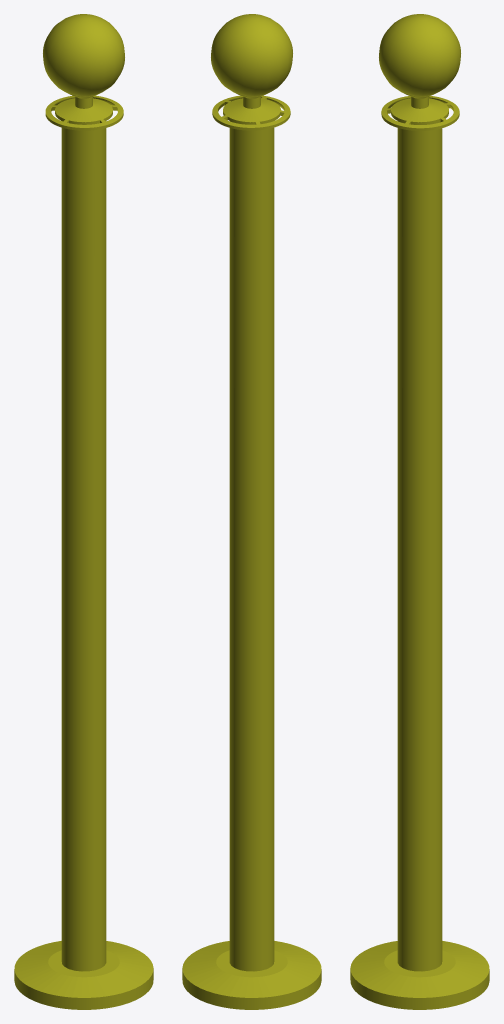
File: RopeGuardPoll.fbx
The picture shows the model from 3 angles, left to right: view 1: azimuth 30°, elevation 25°; view 2: azimuth 150°, elevation 25°; view 3: azimuth 330°, elevation 25°; orthographic projection.
Visible parts, largest first — view 1: pCylinder17; view 2: pCylinder17; view 3: pCylinder17.
Boxes of the visible parts, x1,y1,x2,y2 form: pCylinder17: (14,14,153,1009); pCylinder17: (182,14,321,1009); pCylinder17: (350,14,489,1009).
Bounding box in the file's own units: 1.87 × 14.31 × 1.87.
